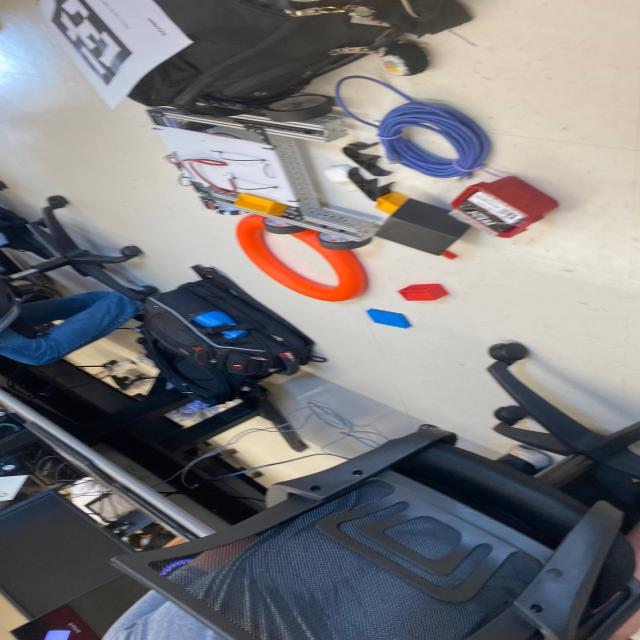red-specimen: (398, 283, 449, 301)
yellow-specimen: (234, 193, 290, 217), (376, 192, 409, 215)
